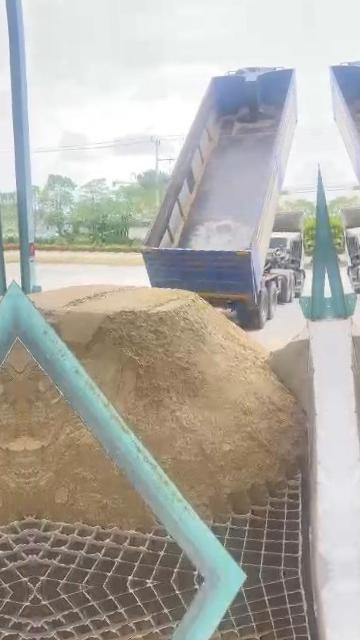sand: (36, 286, 305, 517), (19, 346, 152, 528), (269, 326, 313, 421)
